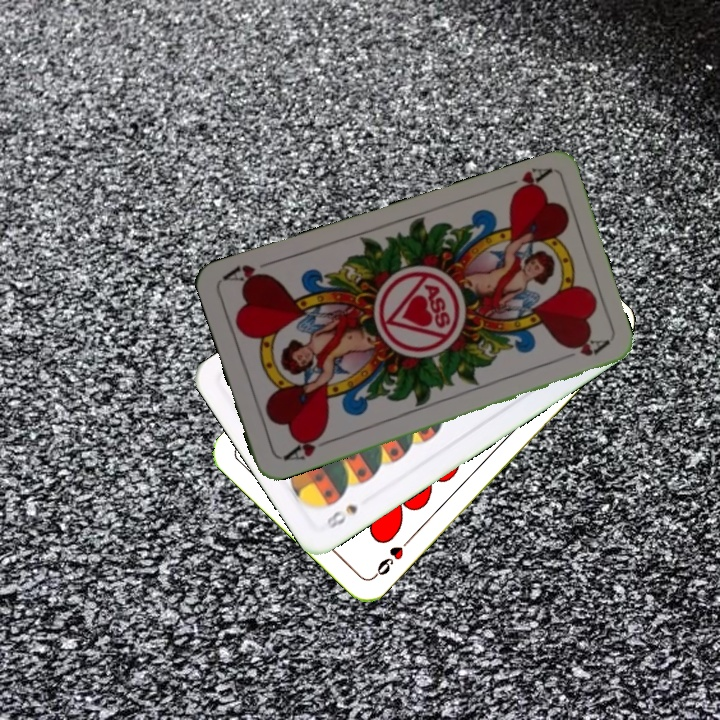H9: (369, 534, 414, 581)
HA: (495, 163, 552, 200), (279, 428, 335, 464)
S8: (322, 500, 361, 532)
